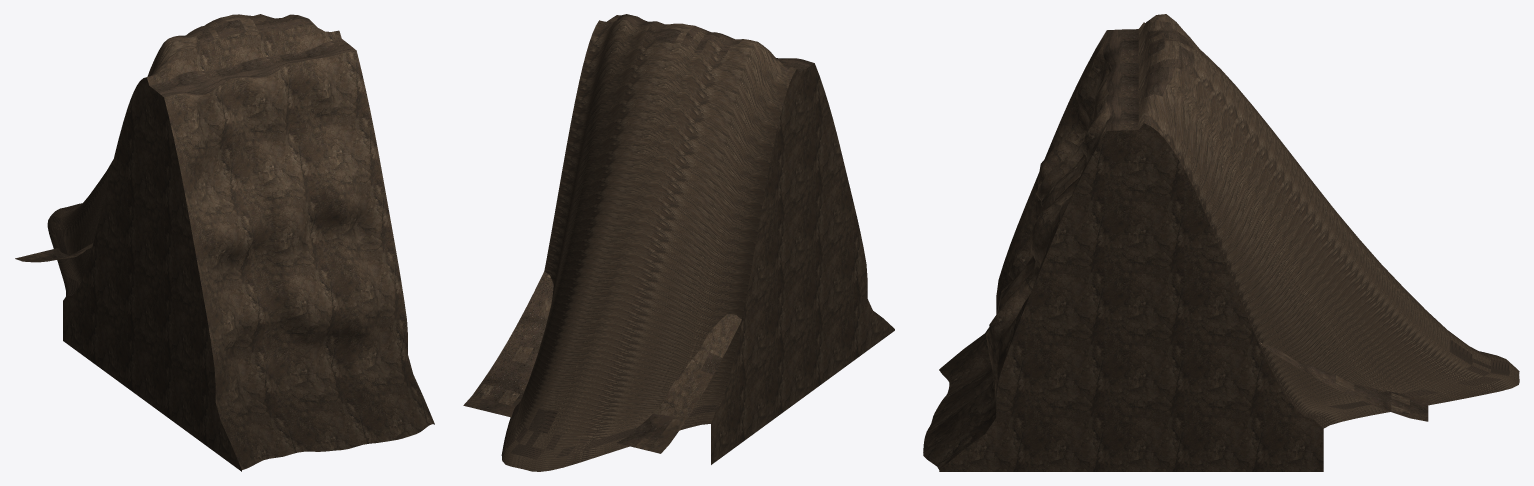
File: seacliff_straight6b_h8_v5_dead.glb
3 renders of one model, left to right at view 1: azimuth 30°, elevation 25°; view 2: azimuth 150°, elevation 25°; view 3: azimuth 270°, elevation 25°, orthographic. The views are drawn at different scales.
Parts seen in each view (by area): view 1: seacliff_straight6b_h8; view 2: seacliff_straight6b_h8; view 3: seacliff_straight6b_h8.
Part boxes in pixels (left/top/right/bottom): seacliff_straight6b_h8: left=15, top=14, right=434, bottom=471; seacliff_straight6b_h8: left=463, top=14, right=894, bottom=471; seacliff_straight6b_h8: left=923, top=14, right=1519, bottom=471.
Bounding box in the file's own units: 6 × 10.47 × 14.99.
2 materials, 2 textured.
